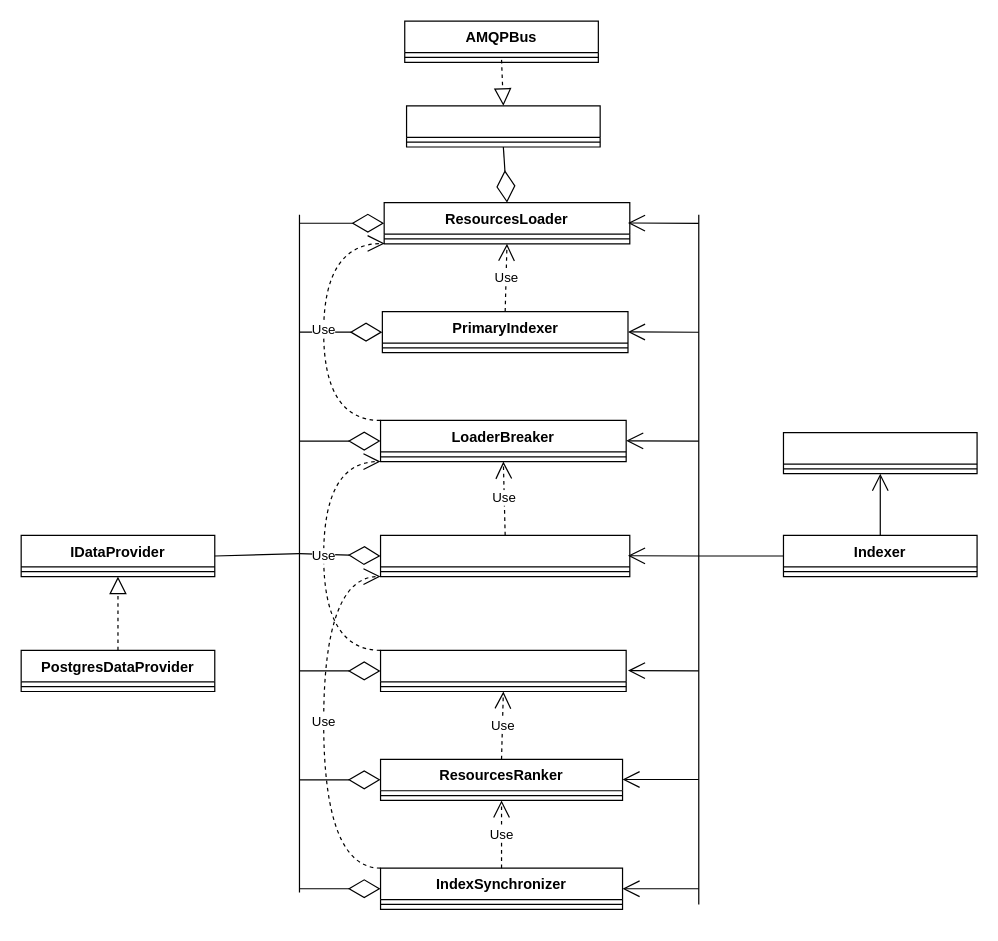
Image size: 998x941. Some labels were removed from this diagram. The shapes that lost their labels are listed below. From the top down, each one's centre as x and y in pixels, then its label:
At pixel 502 126: "IExternalBus".
At pixel 879 452: "Config".
At pixel 504 555: "SecondaryIndexer".
At pixel 502 670: "ResourcesAdjacencyBuilder".
